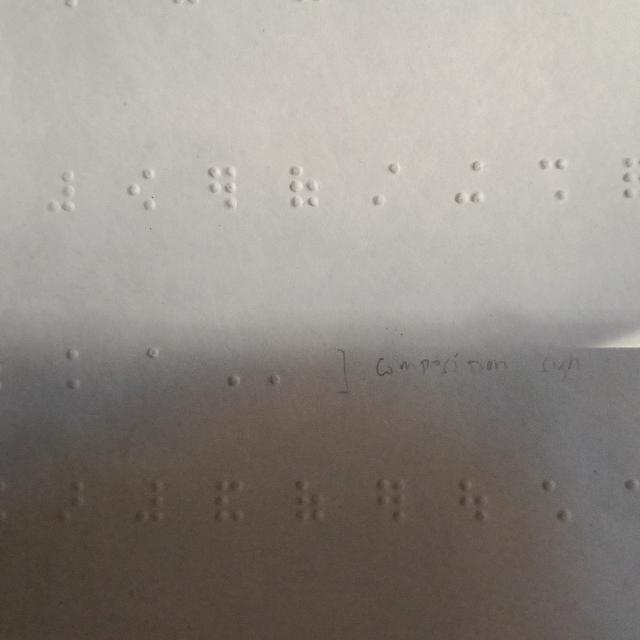one_cell_non_alphabet_araw: (57, 481, 83, 521)
one_cell_non_alphabet_at: (48, 172, 76, 213), (135, 480, 161, 522)
one_cell_non_alphabet_ay: (214, 479, 244, 521)
one_cell_non_alphabet_hanggang: (296, 479, 323, 520)
one_cell_non_alphabet_ibig: (371, 165, 399, 205)
one_cell_non_alphabet_kanila: (544, 478, 571, 522)
one_cell_non_alphabet_raw: (378, 480, 404, 522)
one_cell_non_alphabet_tunay: (459, 479, 488, 524)
one_cell_part_word_at: (48, 172, 76, 213)
one_cell_part_word_aw: (127, 170, 155, 211)
one_cell_part_word_er: (207, 168, 235, 209)
one_cell_part_word_han: (290, 166, 318, 207)
one_cell_part_word_ibig: (371, 165, 399, 205)
one_cell_part_word_ing: (455, 163, 483, 204)
one_cell_part_word_mag: (539, 159, 567, 200)
